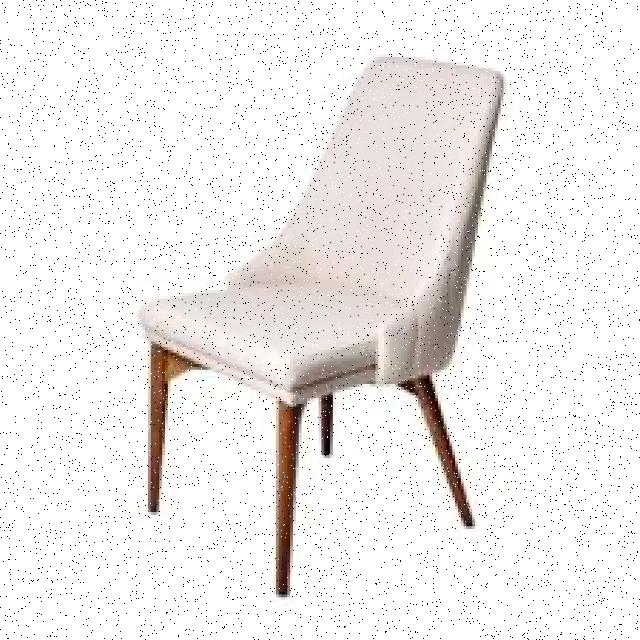bottle: (129, 49, 511, 599)
